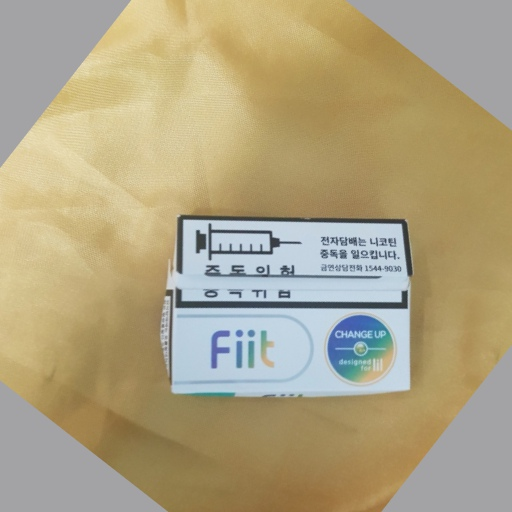Paper_0: (155, 209, 430, 402)
